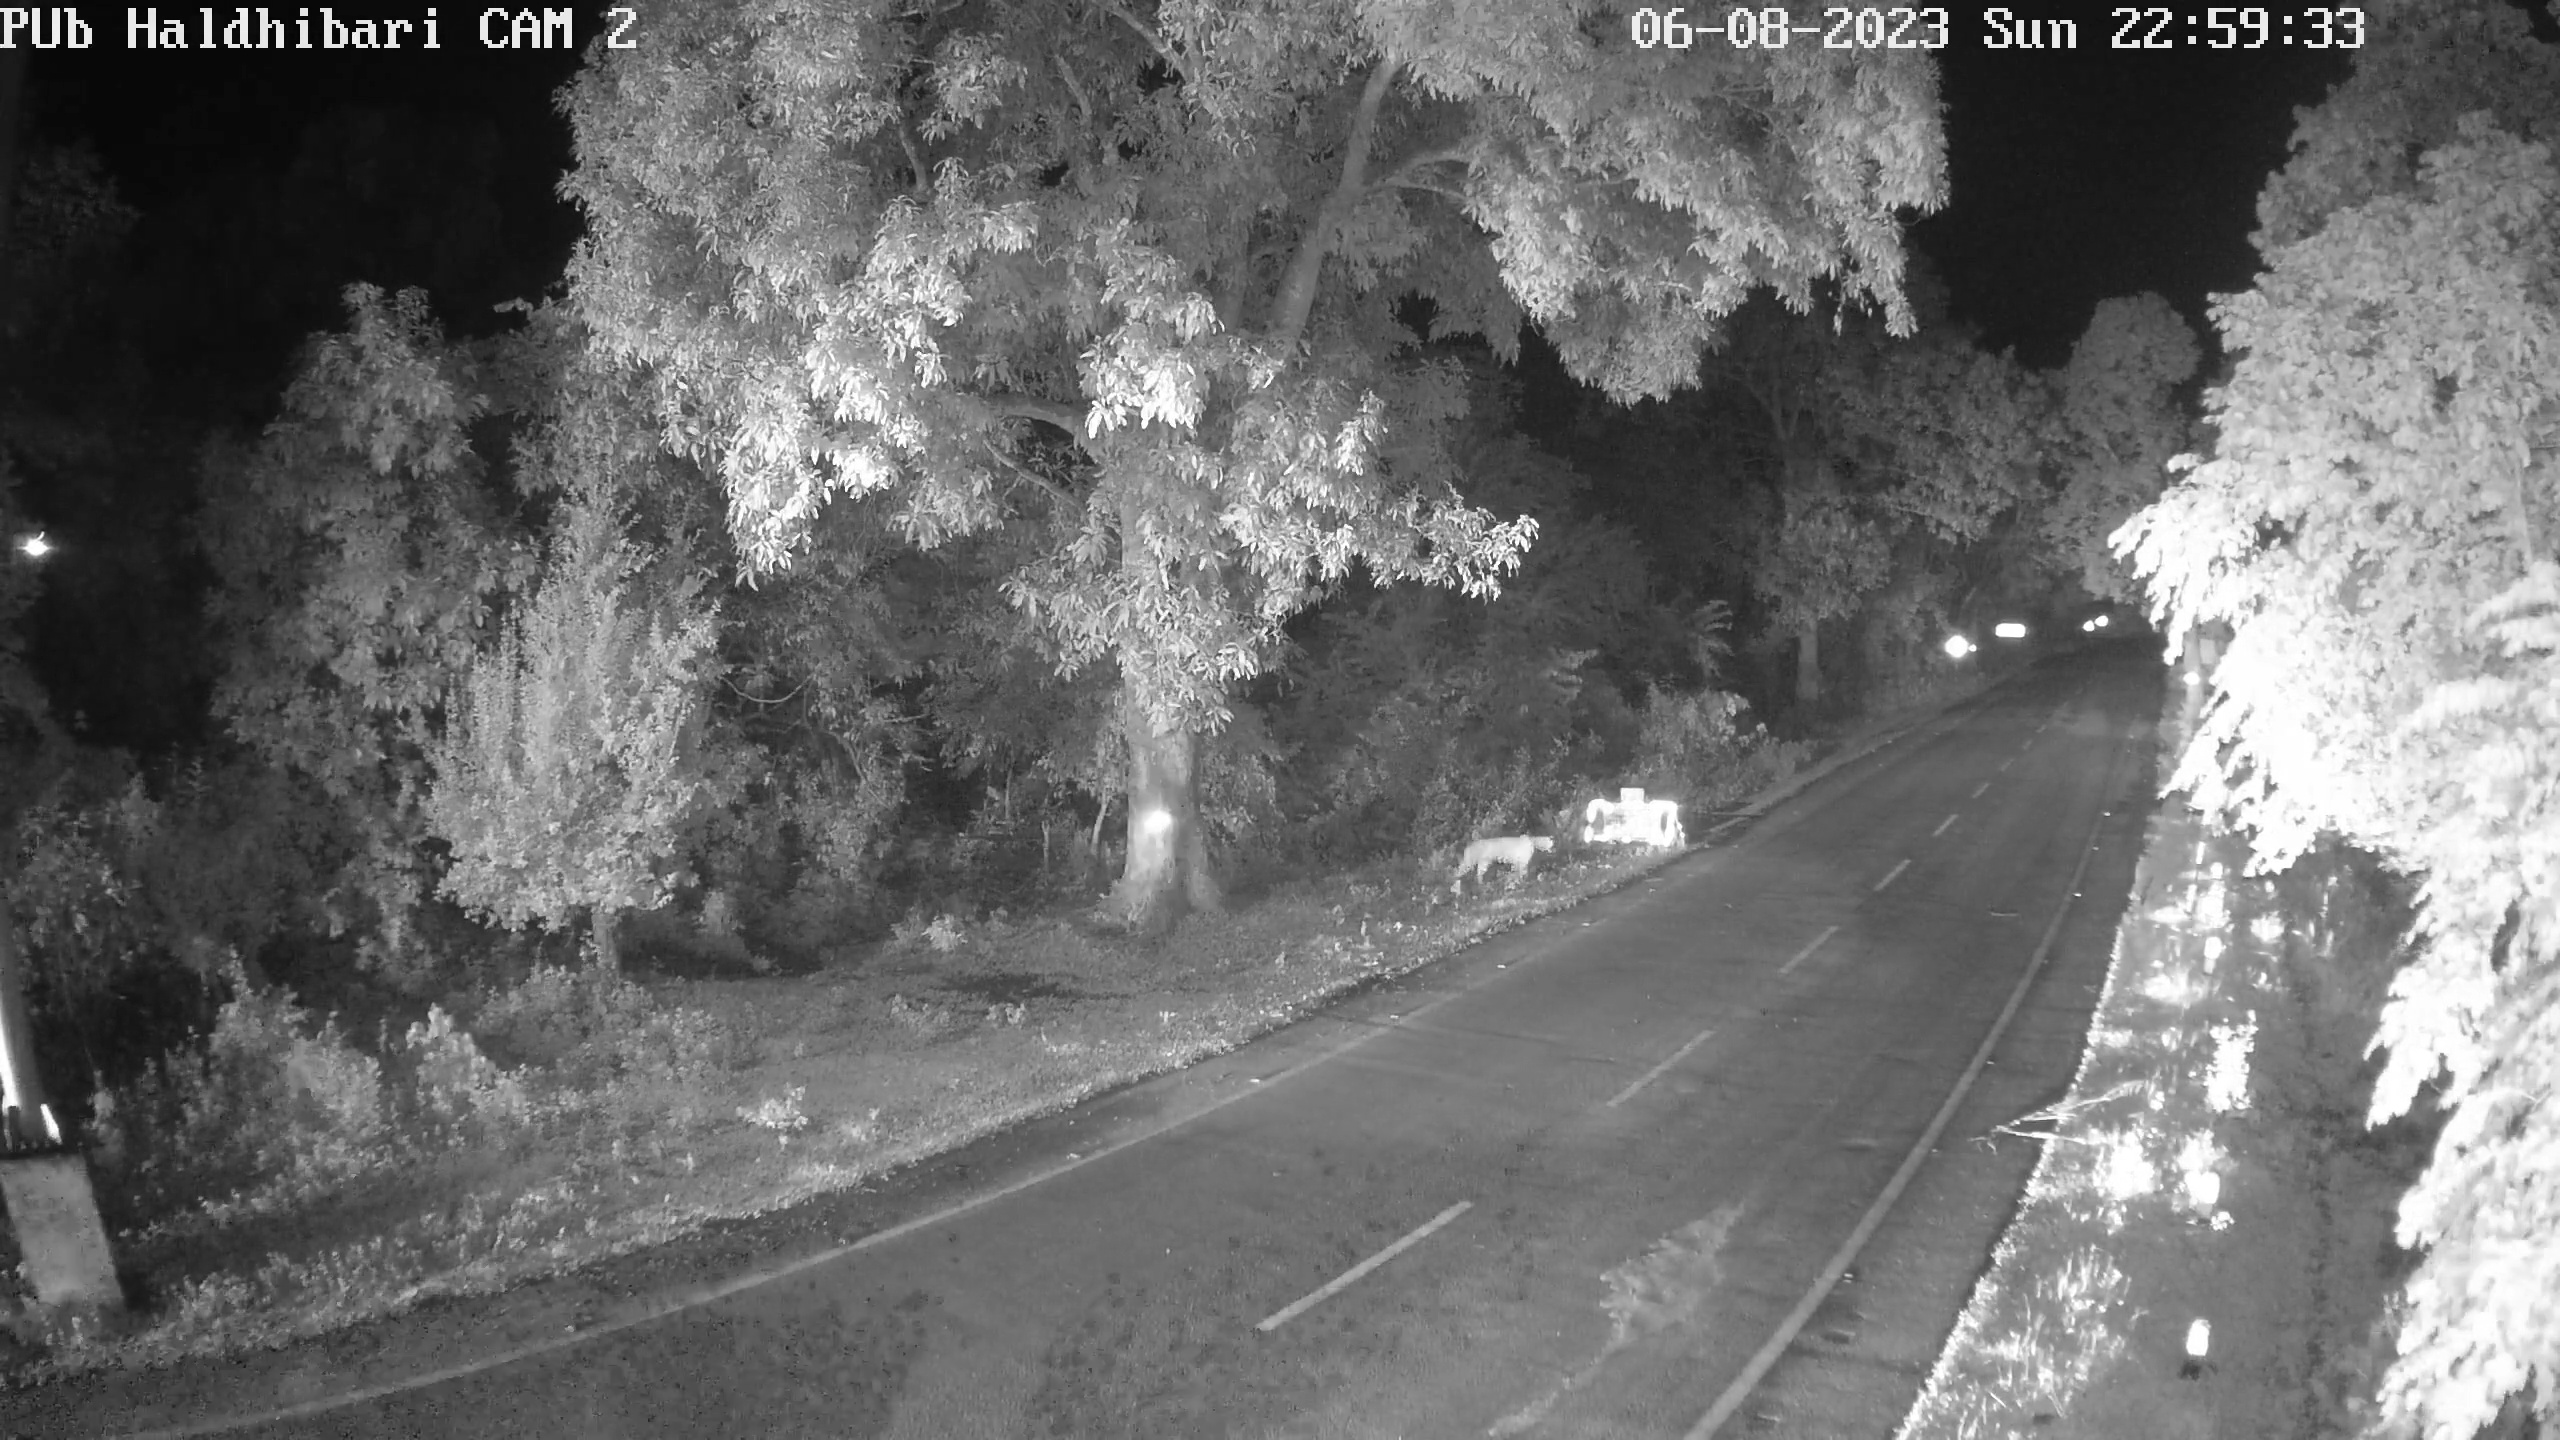tigers: (1463, 828, 1560, 888)
